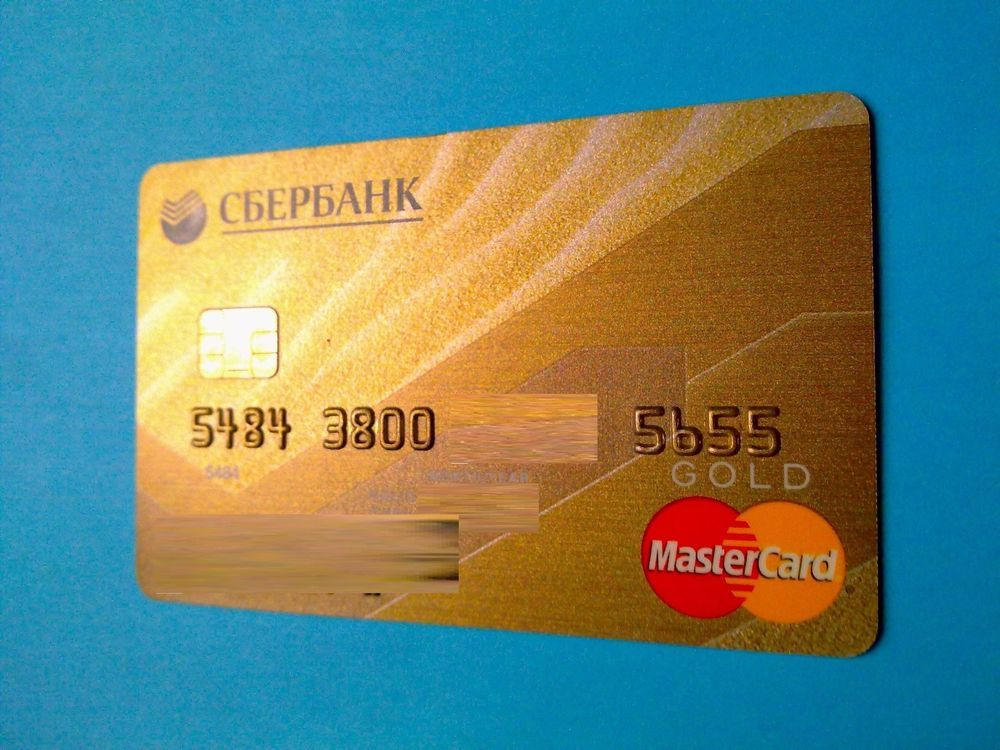card: (134, 89, 881, 656)
